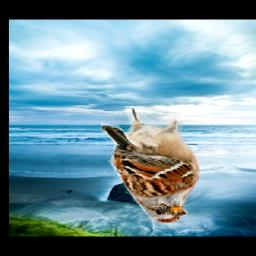Sparrow: (101, 106, 200, 223)
